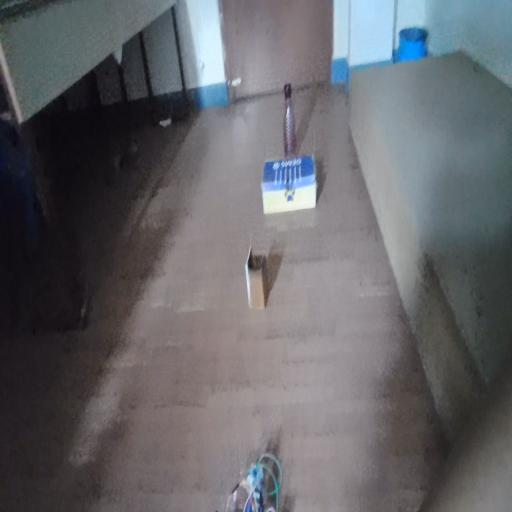Bottle: (282, 81, 302, 153)
